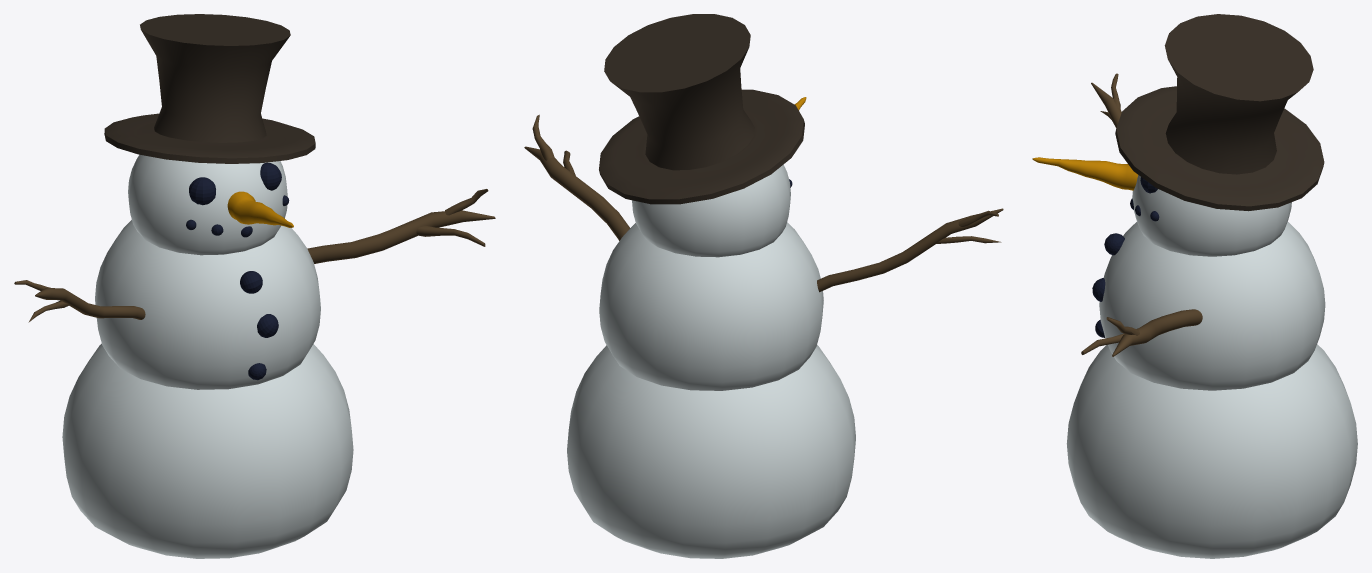
Rendered from SnowDude.fbx.
3 renders of one model, left to right at view 1: azimuth 30°, elevation 25°; view 2: azimuth 150°, elevation 25°; view 3: azimuth 270°, elevation 25°, orthographic.
Visible parts, largest first — view 1: SnowBall1, SnowBall2, top01, SnowBall3, HatBrim01, pCylinder3 (×2), Carrot, Coal01; view 2: SnowBall1, SnowBall2, top01, HatBrim01, SnowBall3, pCylinder3 (×2); view 3: SnowBall1, SnowBall2, top01, HatBrim01, SnowBall3, pCylinder3 (×2), Carrot.
Boxes of the visible parts, x1,y1,x2,y2 form: SnowBall1: [62, 343, 353, 558]; SnowBall2: [95, 220, 320, 389]; top01: [140, 14, 290, 142]; SnowBall3: [128, 154, 287, 255]; HatBrim01: [104, 113, 315, 163]; pCylinder3 (×2): [35, 210, 495, 319]; Carrot: [227, 191, 293, 227]; Coal01: [189, 177, 215, 205]; SnowBall1: [567, 345, 855, 558]; SnowBall2: [599, 222, 823, 390]; top01: [604, 14, 754, 170]; HatBrim01: [599, 89, 804, 204]; SnowBall3: [632, 164, 790, 257]; pCylinder3 (×2): [524, 146, 1003, 292]; SnowBall1: [1066, 344, 1357, 558]; SnowBall2: [1099, 222, 1325, 390]; top01: [1164, 14, 1313, 174]; HatBrim01: [1115, 86, 1324, 211]; SnowBall3: [1132, 175, 1291, 256]; pCylinder3 (×2): [1091, 82, 1202, 356]; Carrot: [1032, 157, 1138, 190].
Bounding box in the file's own units: 3.78 × 3.81 × 2.24.
